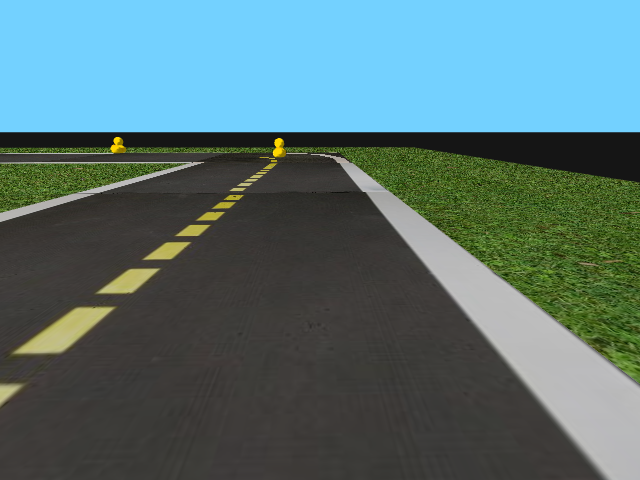Duckie: (271, 137, 288, 158), (109, 136, 126, 153)
